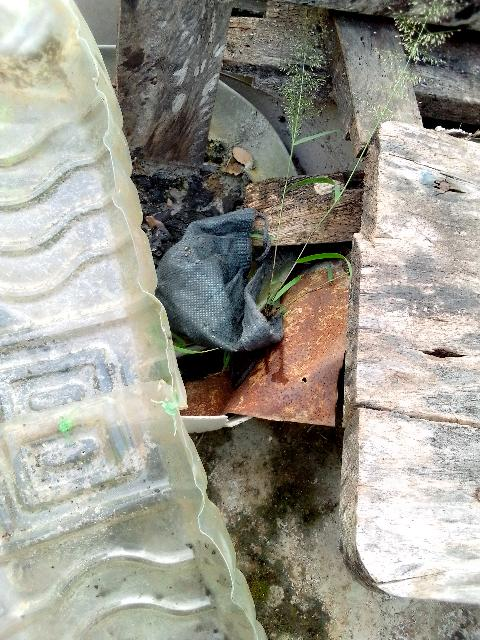mask: (144, 201, 290, 362)
